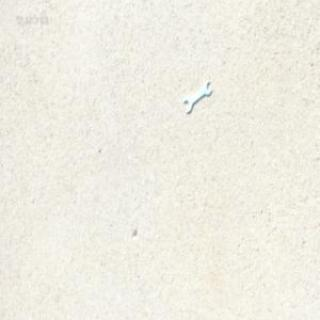Wrenchtrack_idkeyframe: (184, 79, 211, 113)
